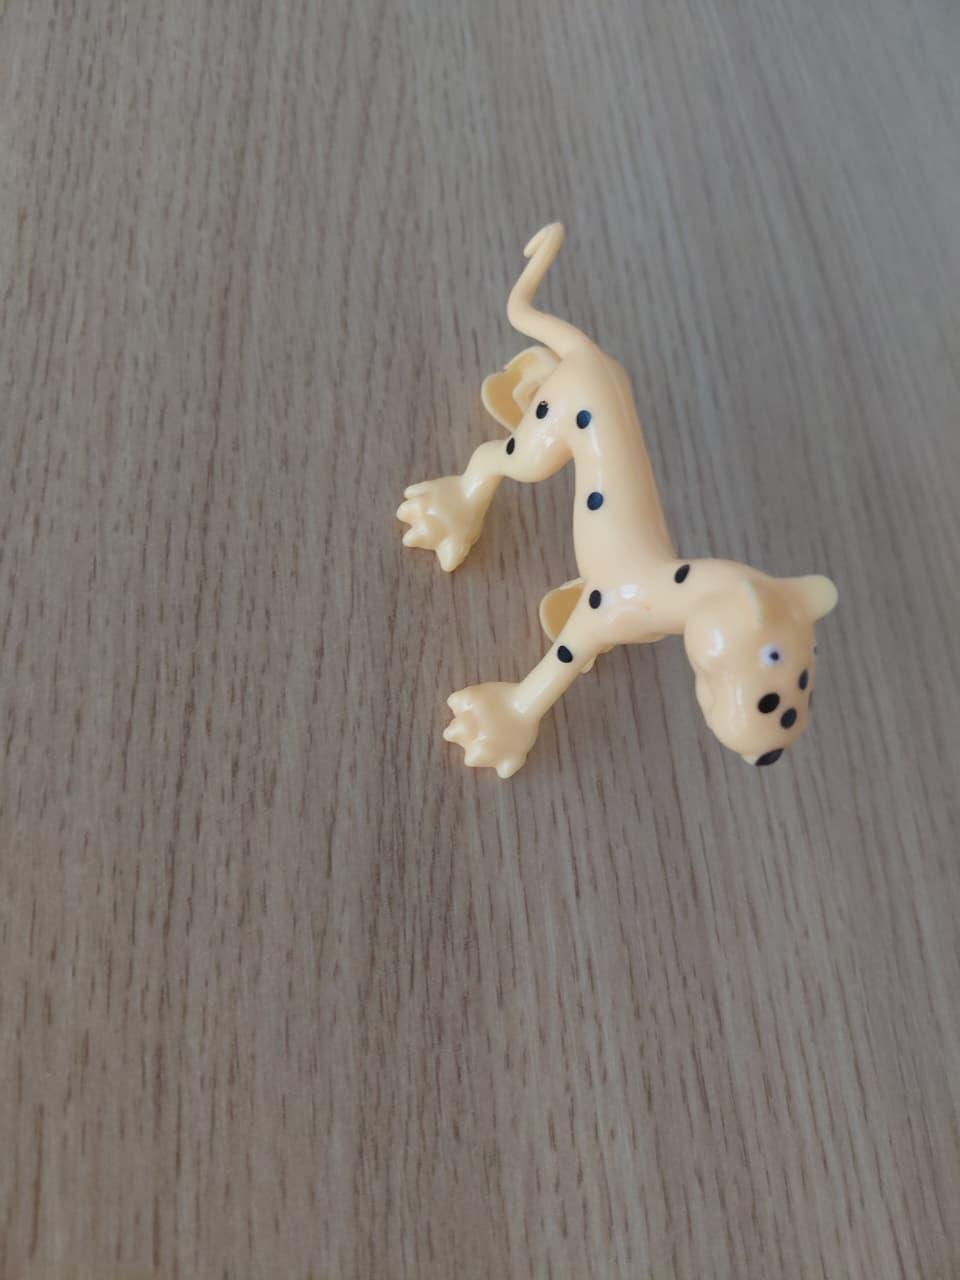cheetah: (350, 206, 868, 863)
